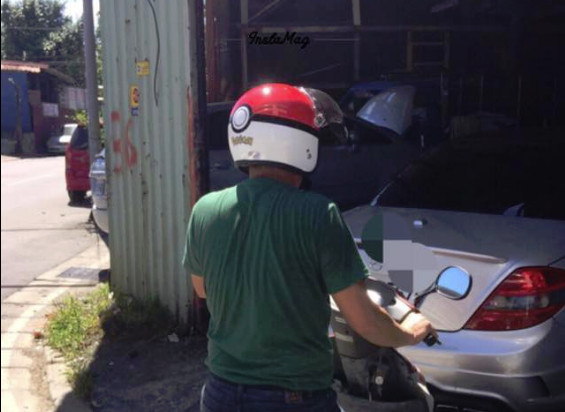helmet: (222, 84, 341, 171)
